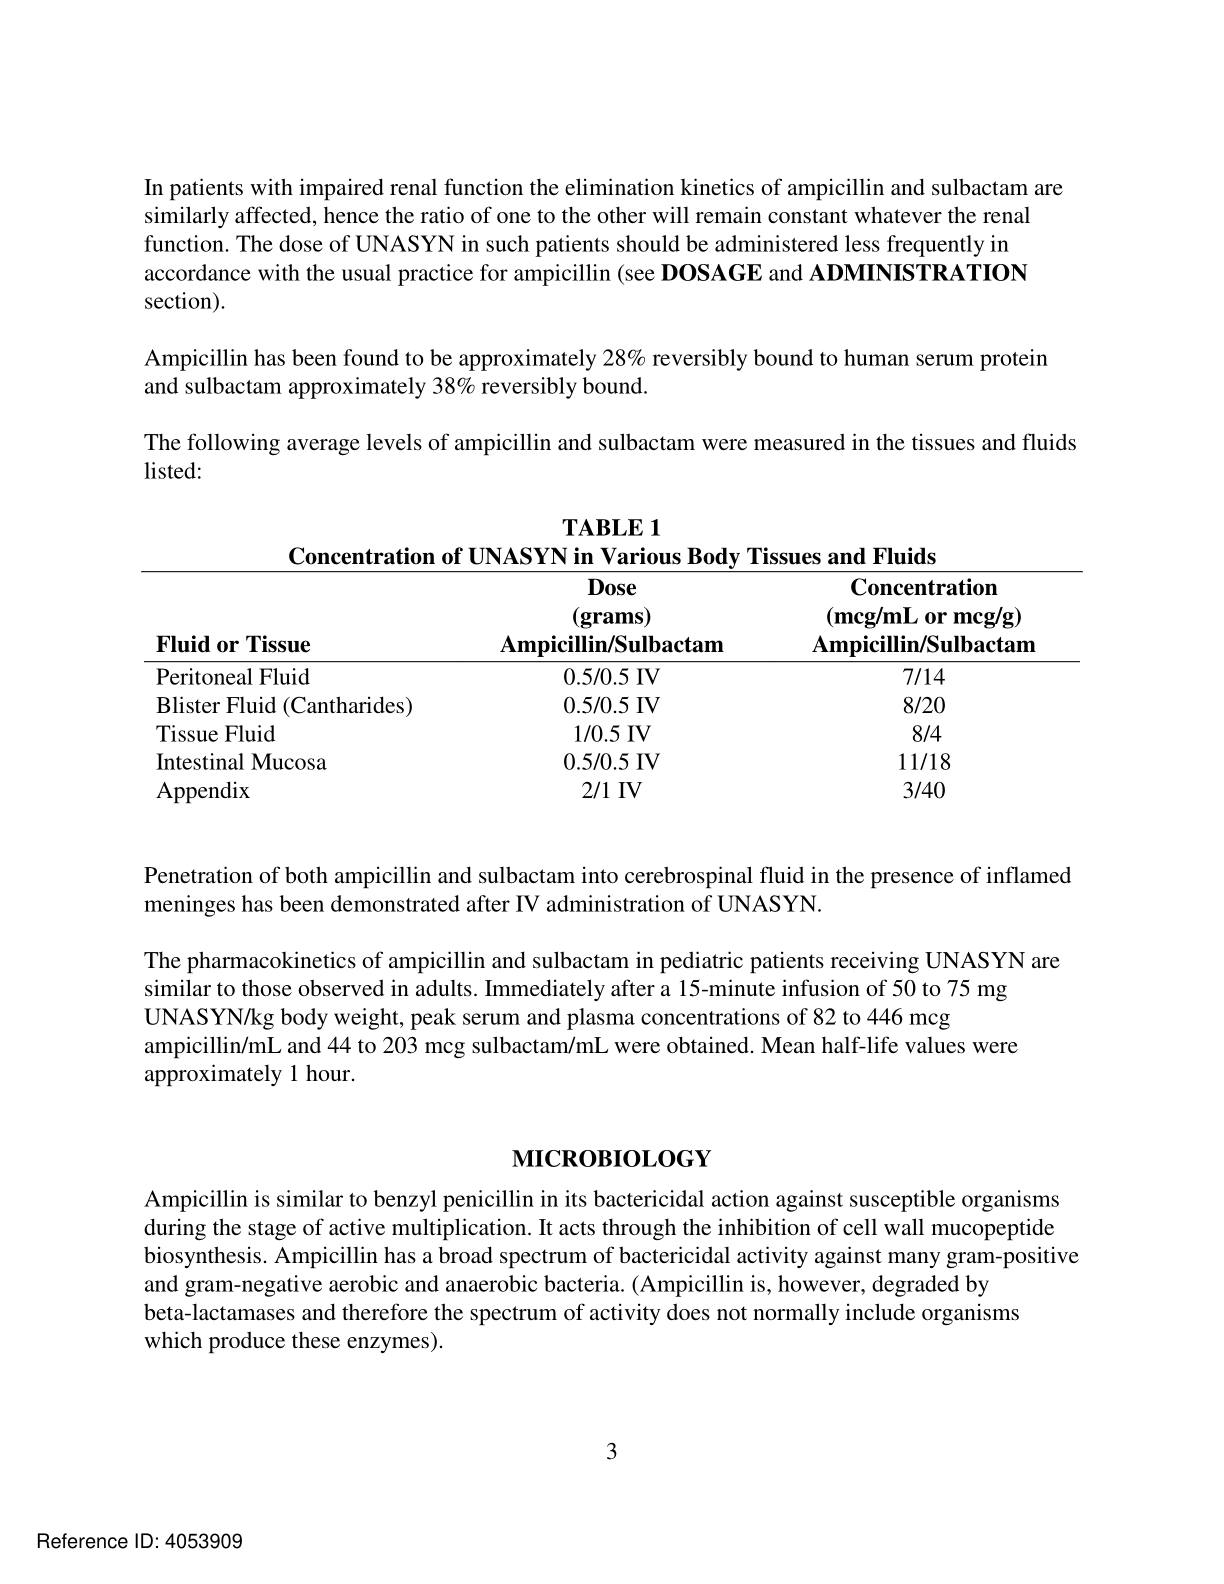partial_lined: (139, 570, 1083, 804)
